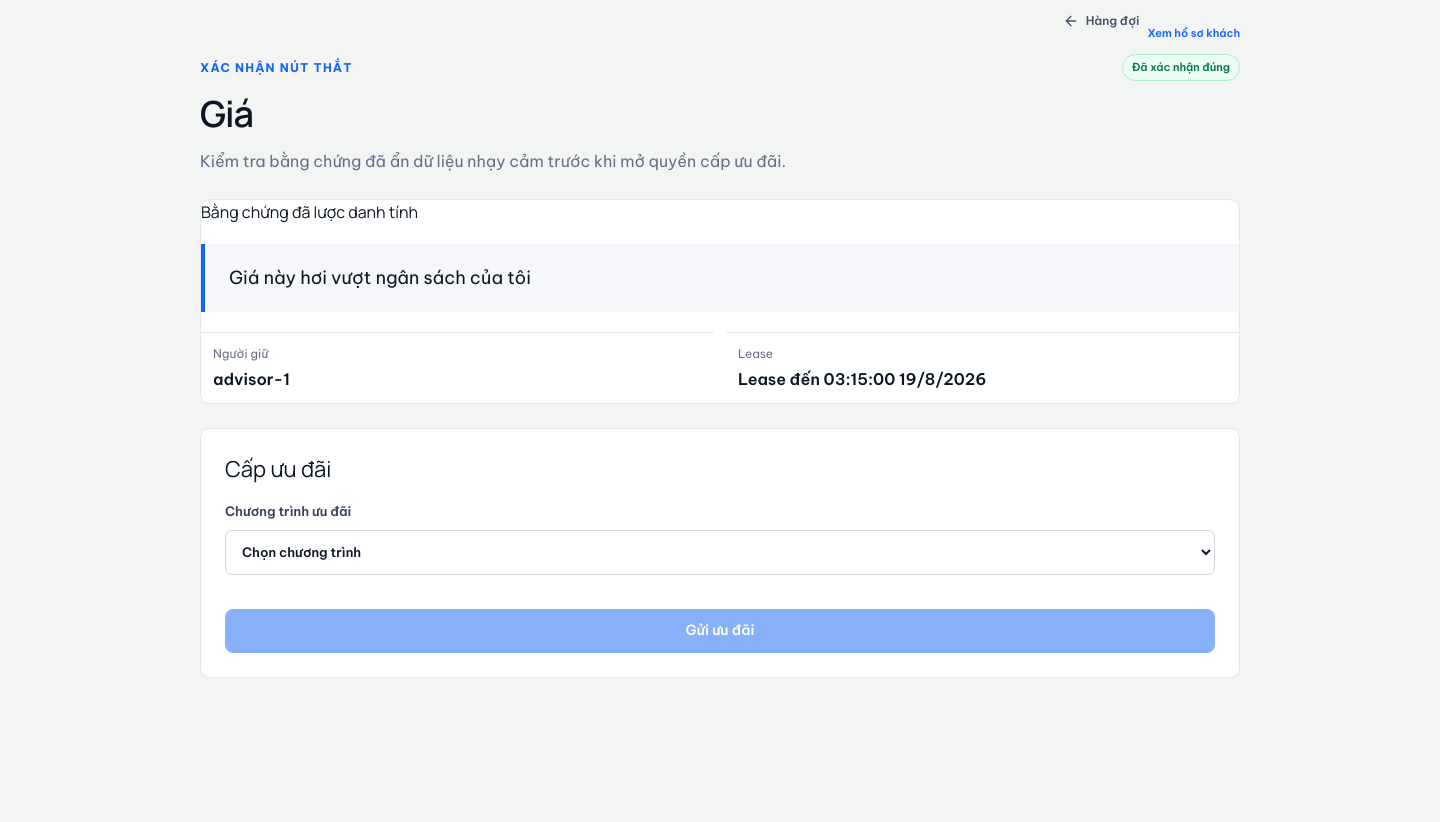
Test case: BottleneckSignalPanel › lỗi promotion_expired hiện tiếng Việt recoverable
Select "KM-01 · Giảm tiền mặt" in the dropdown labelled "Chương trình ưu đãi". click: (720, 552)
box: [225,530,1215,575]
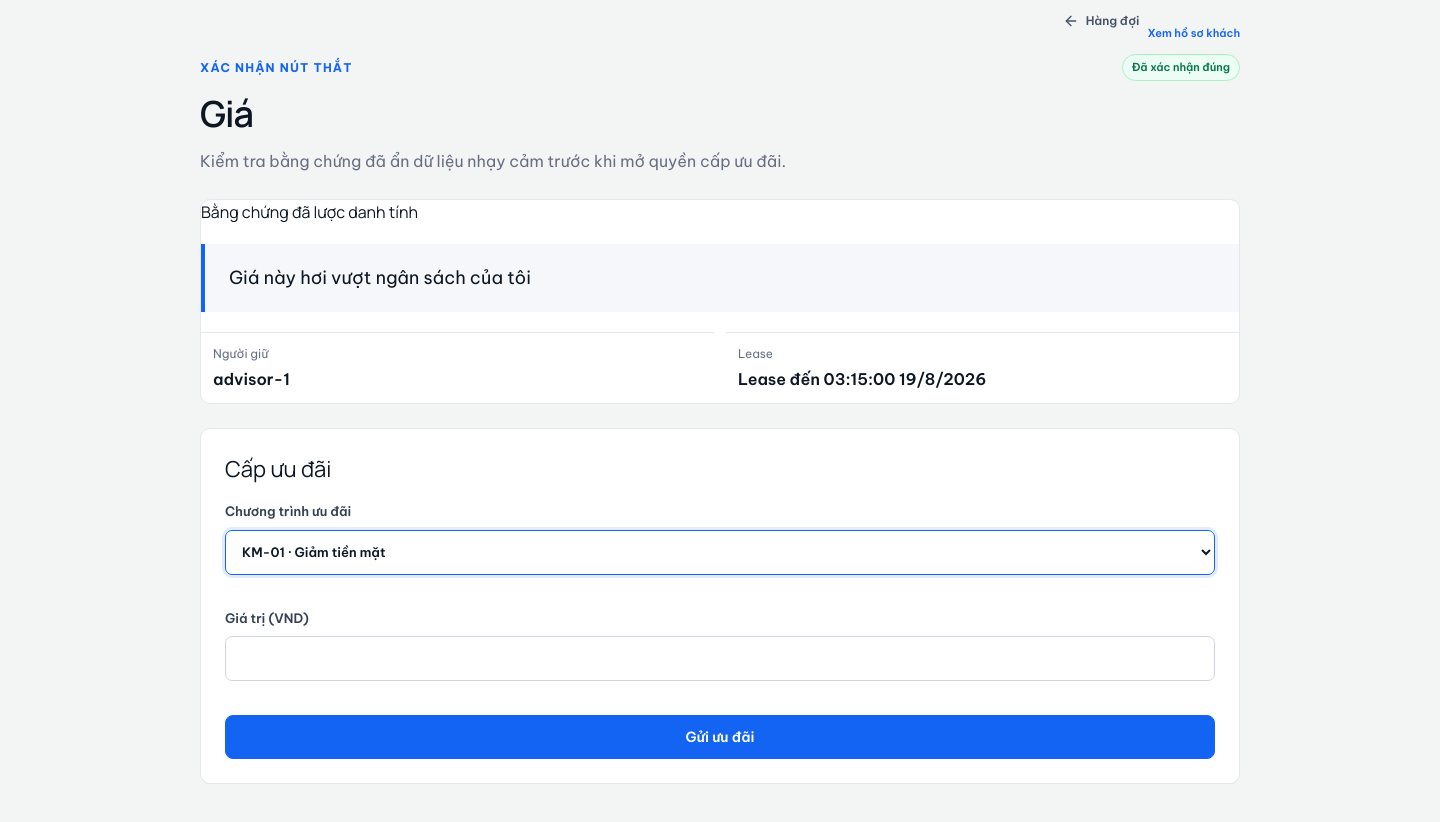
Type "3000000" into the number field labelled "Giá trị (VND)". click: (720, 659)
box: [225,636,1215,681]
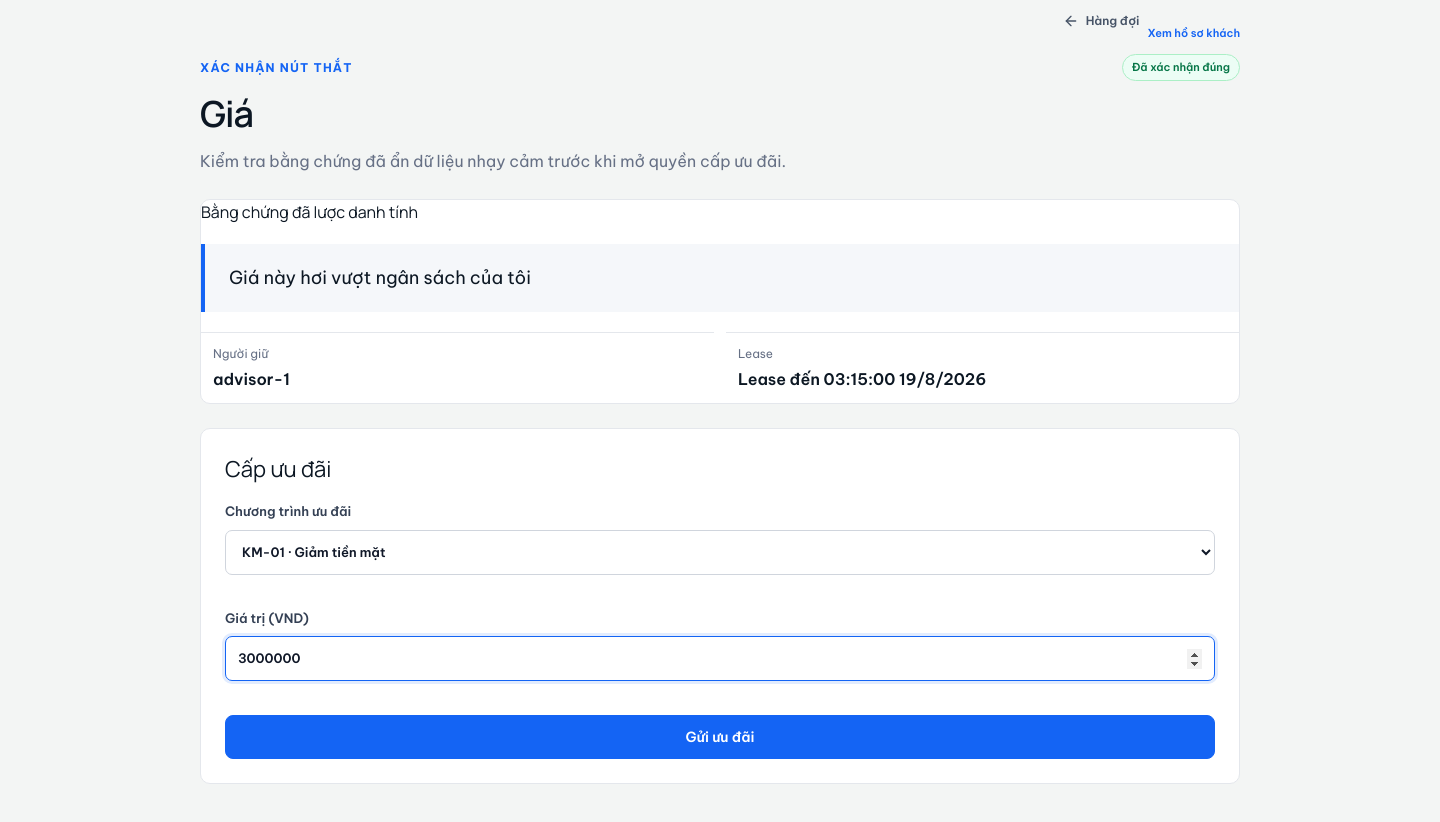
Click the button "Gửi ưu đãi". click: (720, 737)
box: [225,715,1215,759]
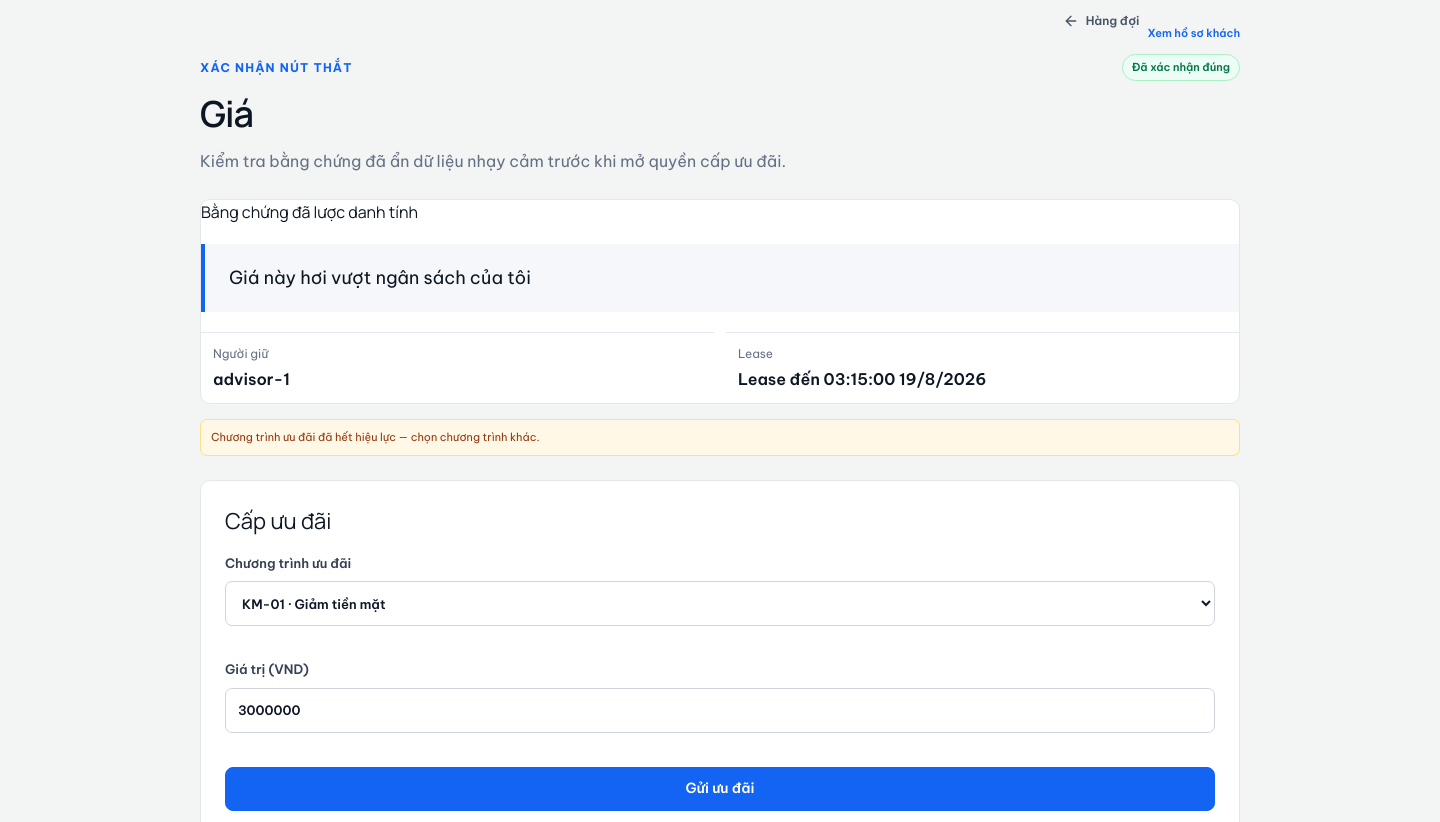
Expected: the button "Gửi ưu đãi" is enabled, [225,767,1215,811]
Expected: the text "Chương trình ưu đãi đã hết hiệu lực — chọn chương trình khác." is shown, [200,419,1240,456]
